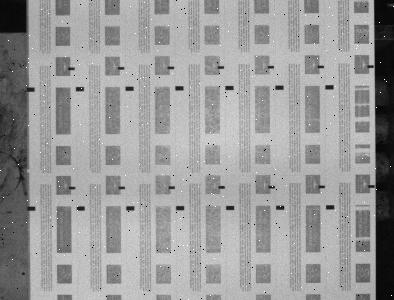qblock: (27, 206, 36, 211), (125, 86, 134, 91), (126, 206, 135, 211), (276, 205, 285, 210), (27, 87, 35, 92), (276, 85, 284, 90), (77, 206, 85, 211), (326, 205, 335, 209), (226, 206, 235, 210), (176, 206, 185, 210), (76, 87, 84, 91), (326, 85, 334, 89), (226, 86, 234, 90), (176, 86, 184, 90)
smallqblock: (118, 66, 125, 70), (268, 65, 275, 69), (68, 67, 75, 70), (168, 66, 175, 69), (218, 66, 225, 69), (69, 186, 76, 189), (318, 65, 325, 68), (118, 186, 125, 189), (368, 65, 375, 68), (169, 186, 176, 189), (269, 185, 276, 188), (319, 185, 326, 188), (219, 186, 226, 189), (369, 185, 376, 188)
